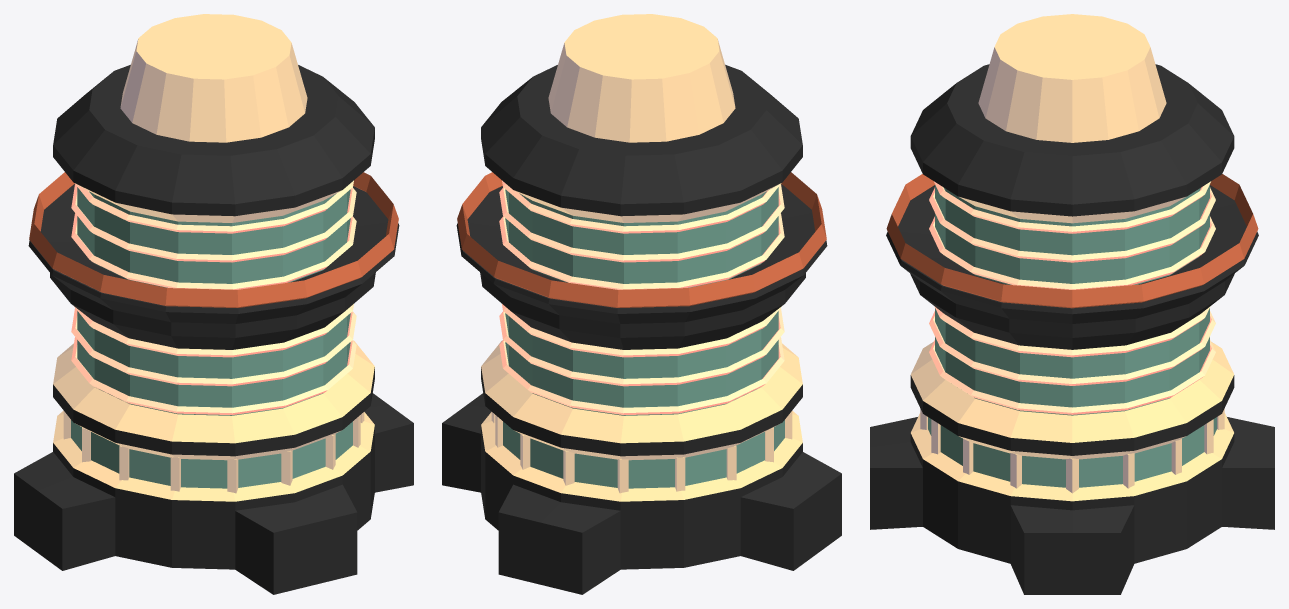
The model's file is MainBuilding_Lv2.fbx.
3 renders of one model, left to right at view 1: azimuth 30°, elevation 25°; view 2: azimuth 150°, elevation 25°; view 3: azimuth 270°, elevation 25°, orthographic.
Visible parts, largest first — view 1: Base_Lvl02_LOD0; view 2: Base_Lvl02_LOD0; view 3: Base_Lvl02_LOD0.
Boxes of the visible parts, x1,y1,x2,y2 form: Base_Lvl02_LOD0: (14, 14, 413, 594); Base_Lvl02_LOD0: (442, 14, 841, 594); Base_Lvl02_LOD0: (870, 14, 1274, 594).
Size of what is drawn, in the model's own units: 12005 by 15132 by 12005.
